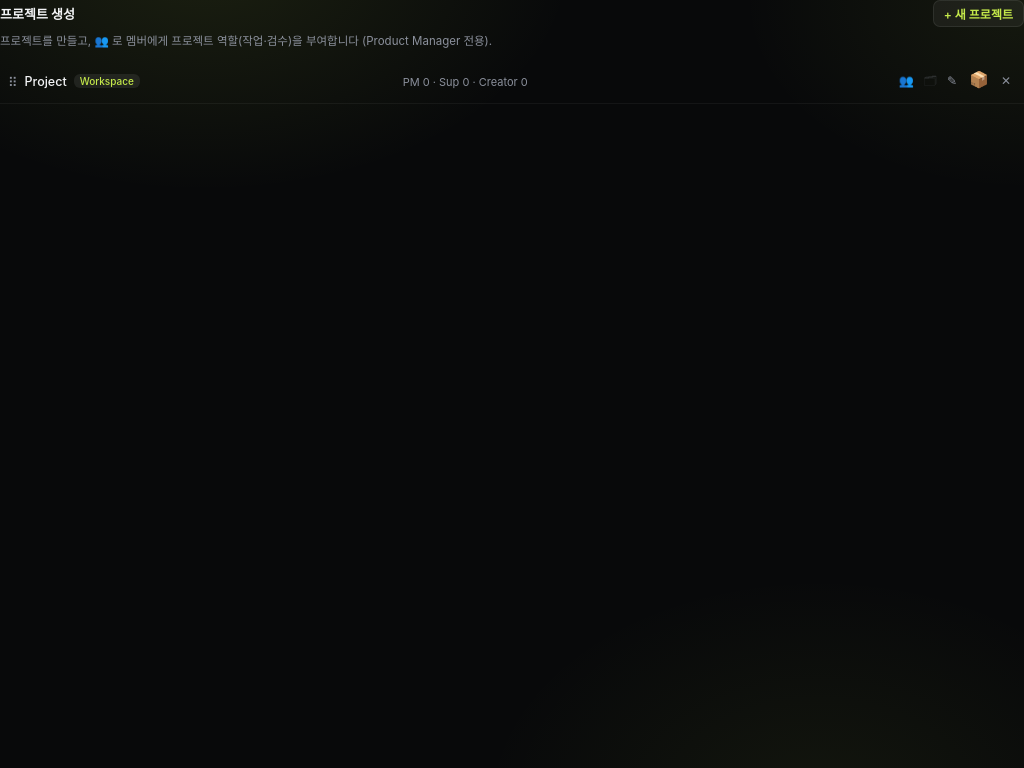
Test: revision-only 409 retry is bounded (reported revision 1) and keeps the draft
This screenshot has width=1024, height=768.
Click the button titled "프로젝트 설정" at coordinates (952, 81), box [942, 70, 962, 91]
(page scrolled)
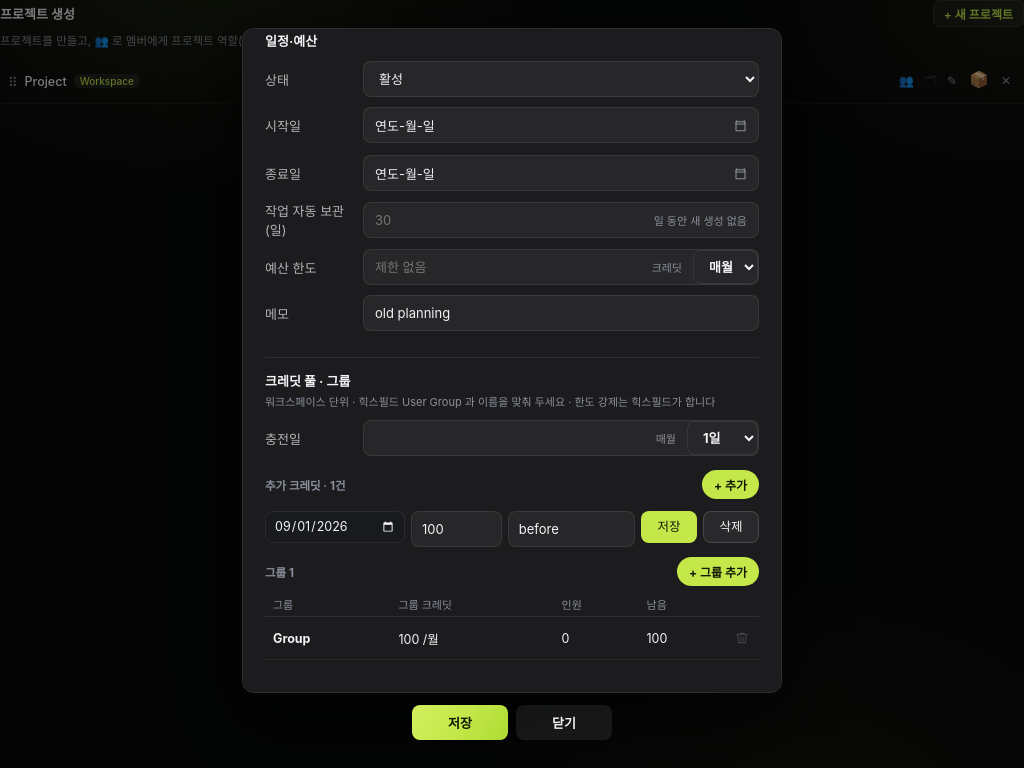
Select "15일" in the dropdown named "매월 충전일" at coordinates (722, 438), box [687, 421, 758, 455]
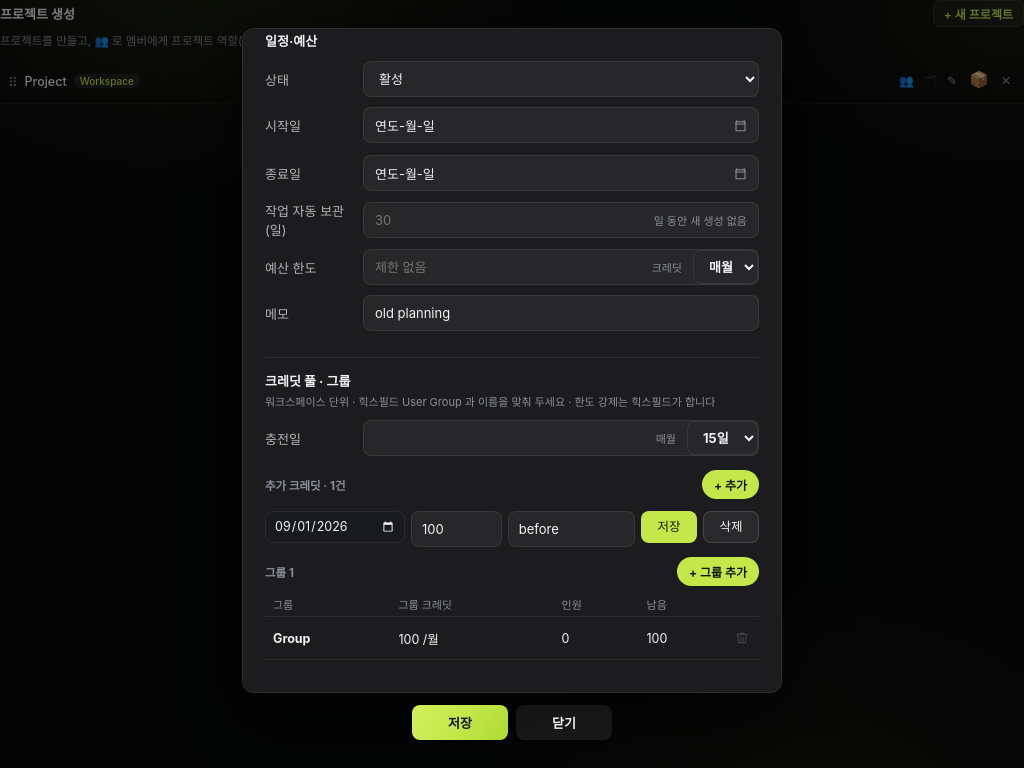
Click the button with class "admin-confirm-yes" at coordinates (460, 723), box [412, 706, 508, 740]
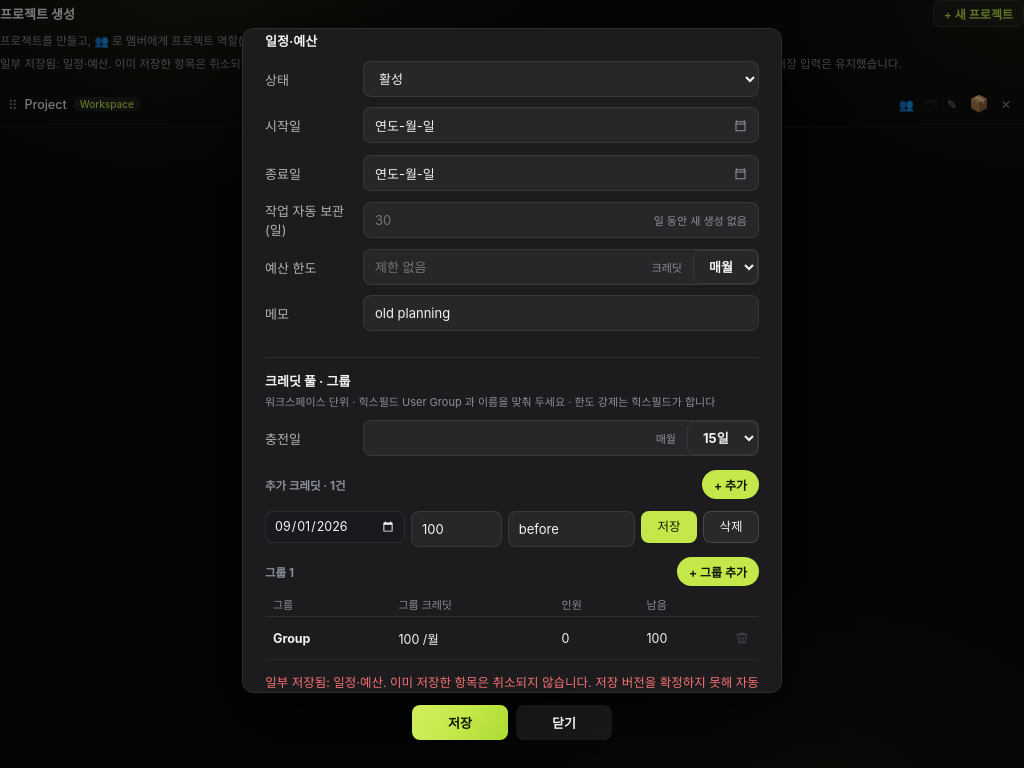
Now the button with class "admin-confirm-yes" is enabled, box [412, 706, 508, 740]
Now the text "자동 재시도를 중단" is shown, box [0, 57, 902, 71]
